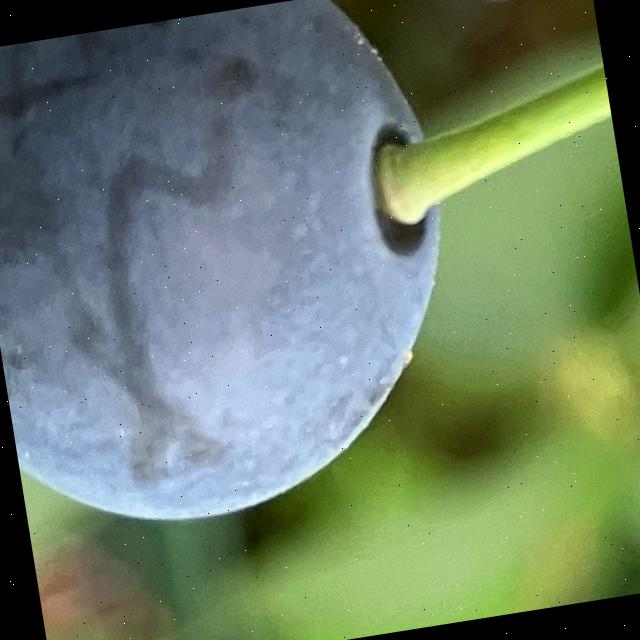Blueberries: (0, 0, 487, 556)
